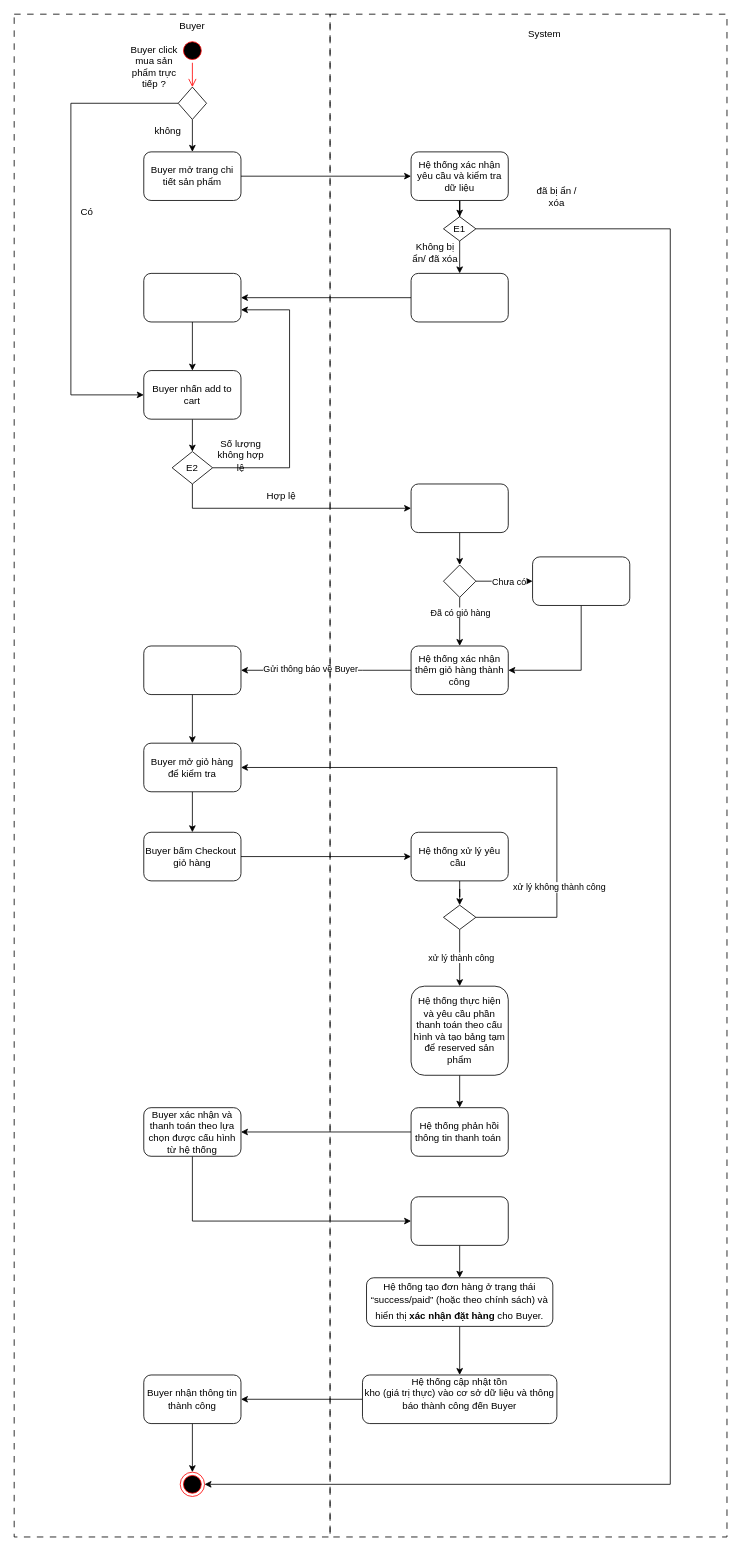
The diagram is 741 pixels wide and 1551 high, and some of its shapes have lost their labels. Each missing label, with the centre of its shape:
"A2" belongs at pixel 459 580.
"Buyer chọn số lượng" belongs at pixel 192 297.
"Buyer nhận thông báo từ System" belongs at pixel 192 670.
"E3" belongs at pixel 459 916.
"Hệ thống bắt đầu tạo giỏ hàng với sản phẩm đã chọn" belongs at pixel 581 580.
"Hệ thống commit dữ liệu và xóa bảng tạm" belongs at pixel 459 1220.
"Hệ thống hiển thị thông tin tên, giá, mô tả, hình ảnh, tồn kho hiện tại." belongs at pixel 459 297.
"Hệ thống kiểm tra giỏ hàng của Buyer" belongs at pixel 459 508.
